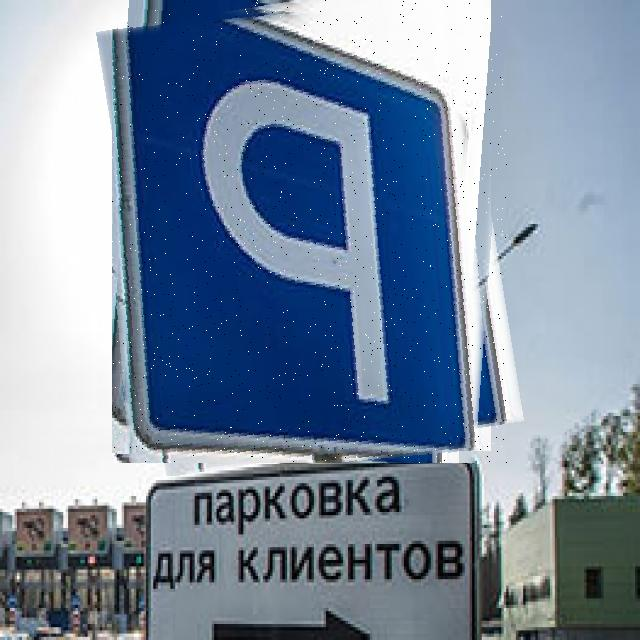parking: (112, 0, 507, 463)
